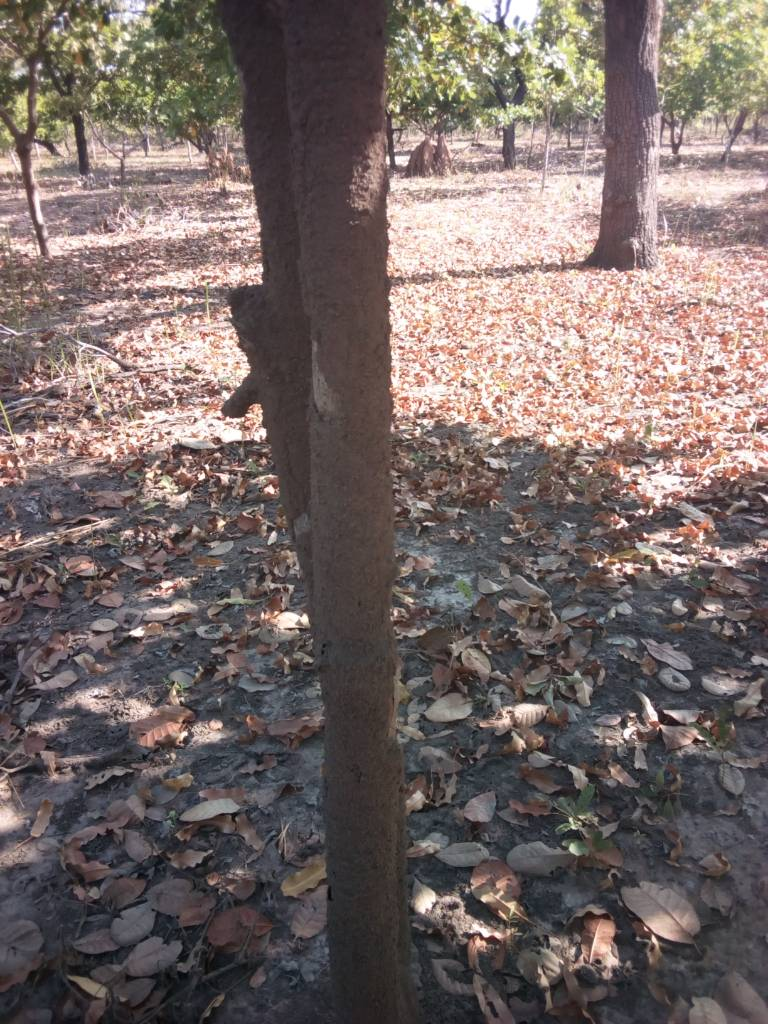Termites: (305, 1, 406, 1017)
